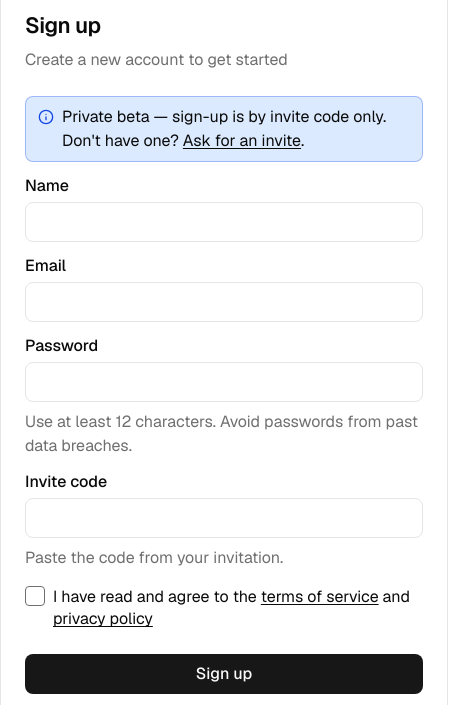
Test: SignUpForm › Continue with Google (HON-1157) › asks for sign-up with consent and the invite code, and none of the email fields
In the field labelled "Invite code": point(224, 518) [25,498,423,538], type "abc123"
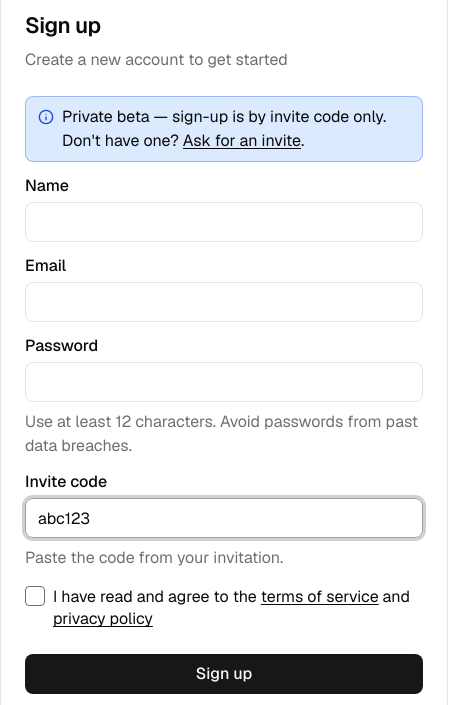
Click the checkbox named "terms of service": point(35, 596) [25,586,45,606]
(page scrolled)
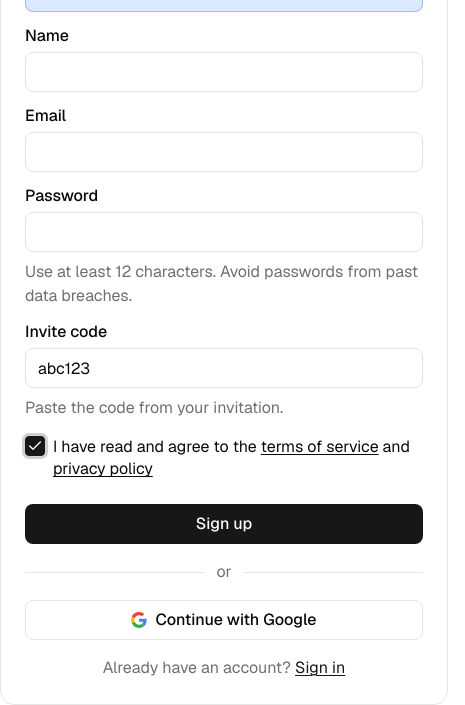
Click the button "Continue with Google": point(224, 620) [25,600,423,640]
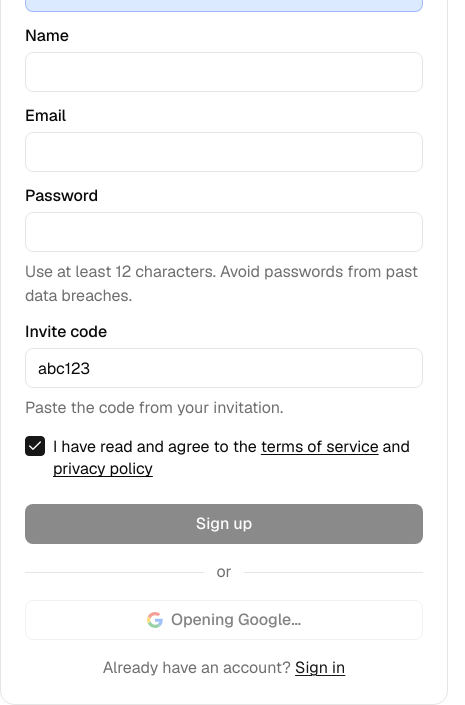
Expected: the button "Opening Google…" is disabled, [25,600,423,640]
